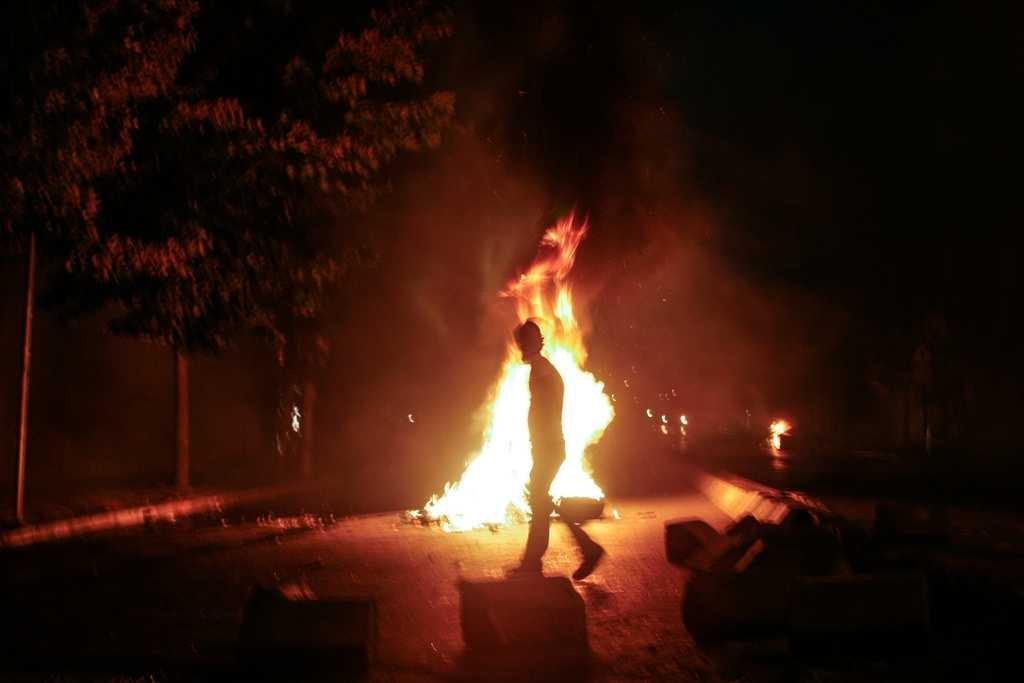fire: (488, 378, 532, 510), (563, 377, 603, 447)
